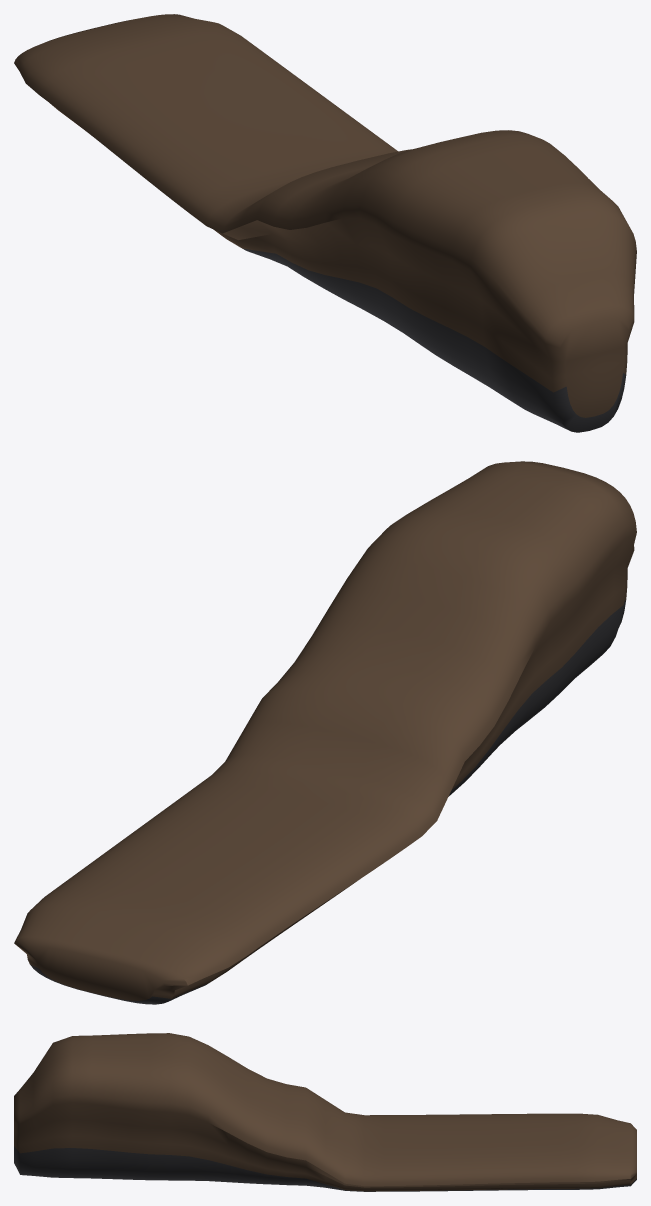
File: hump_long.glb
3 renders of one model, top to bottom at view 1: azimuth 30°, elevation 25°; view 2: azimuth 150°, elevation 25°; view 3: azimuth 270°, elevation 25°, orthographic. The views are drawn at different scales.
Visible parts, largest first — view 1: lod0; view 2: lod0; view 3: lod0.
Part boxes in pixels (x1=…): lod0: x1=14, y1=14, x2=636, y2=432; lod0: x1=14, y1=461, x2=636, y2=1004; lod0: x1=14, y1=1033, x2=636, y2=1191.
Size of what is drawn, in the model's own units: 0.2492 by 0.22 by 1.
